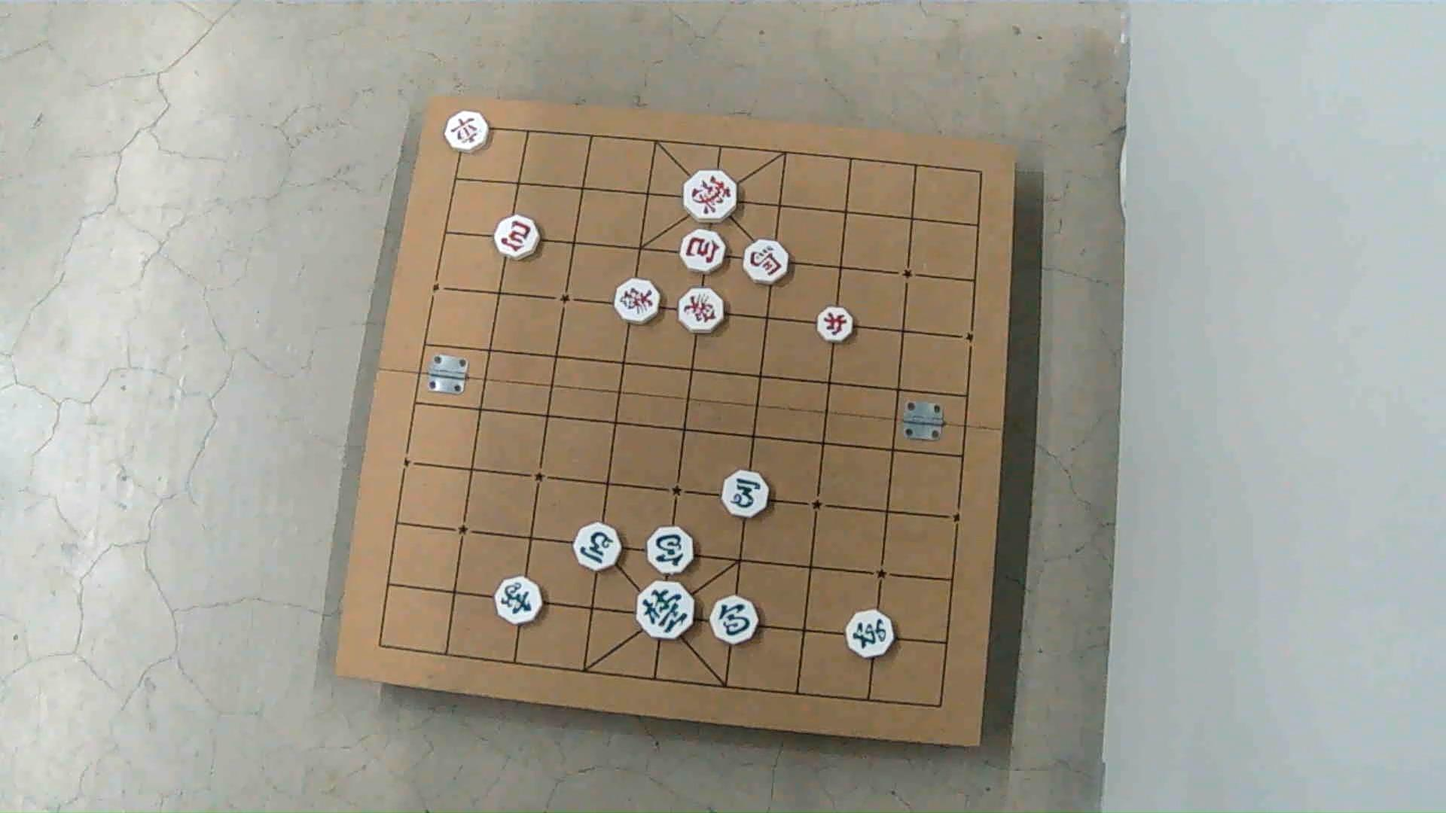cha_green: (847, 610, 895, 658)
cha_red: (447, 111, 490, 151)
jol_red: (816, 304, 853, 340)
ma_green: (572, 524, 621, 571), (721, 469, 768, 516)
ma_red: (744, 239, 790, 284)
po_green: (710, 595, 757, 644), (645, 527, 693, 574)
po_red: (681, 230, 728, 273), (498, 215, 542, 258)
sang_green: (494, 577, 541, 624)
sang_red: (681, 287, 725, 332), (616, 279, 661, 322)
wang_green: (635, 580, 694, 638)
wang_red: (683, 170, 737, 221)
